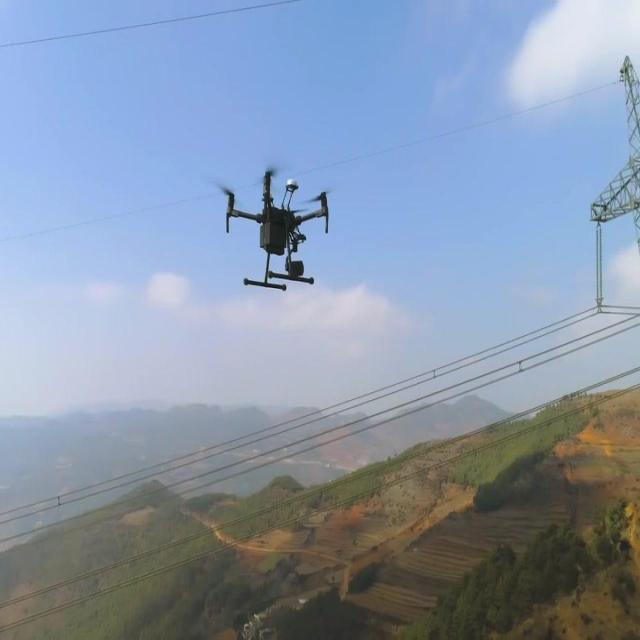drone: (223, 165, 328, 292)
